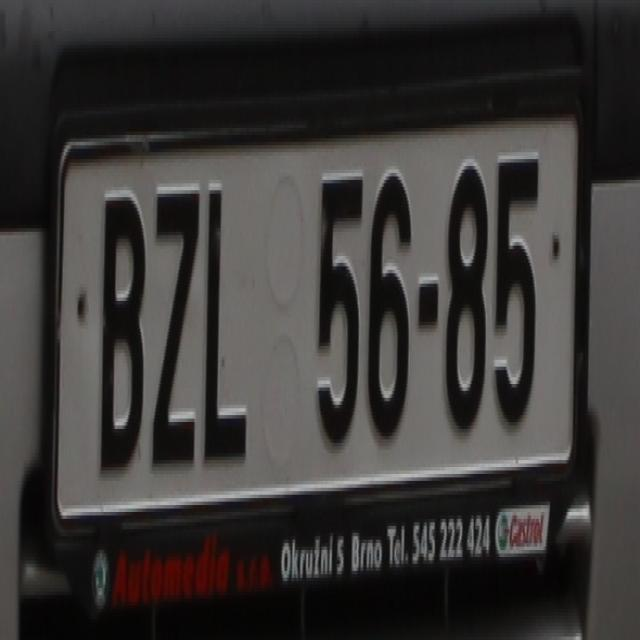5: (312, 170, 364, 446), (494, 148, 542, 422)
6: (367, 170, 412, 446)
8: (446, 159, 487, 433)
B: (96, 187, 146, 467)
L: (200, 172, 248, 470)
Z: (152, 183, 200, 474)
